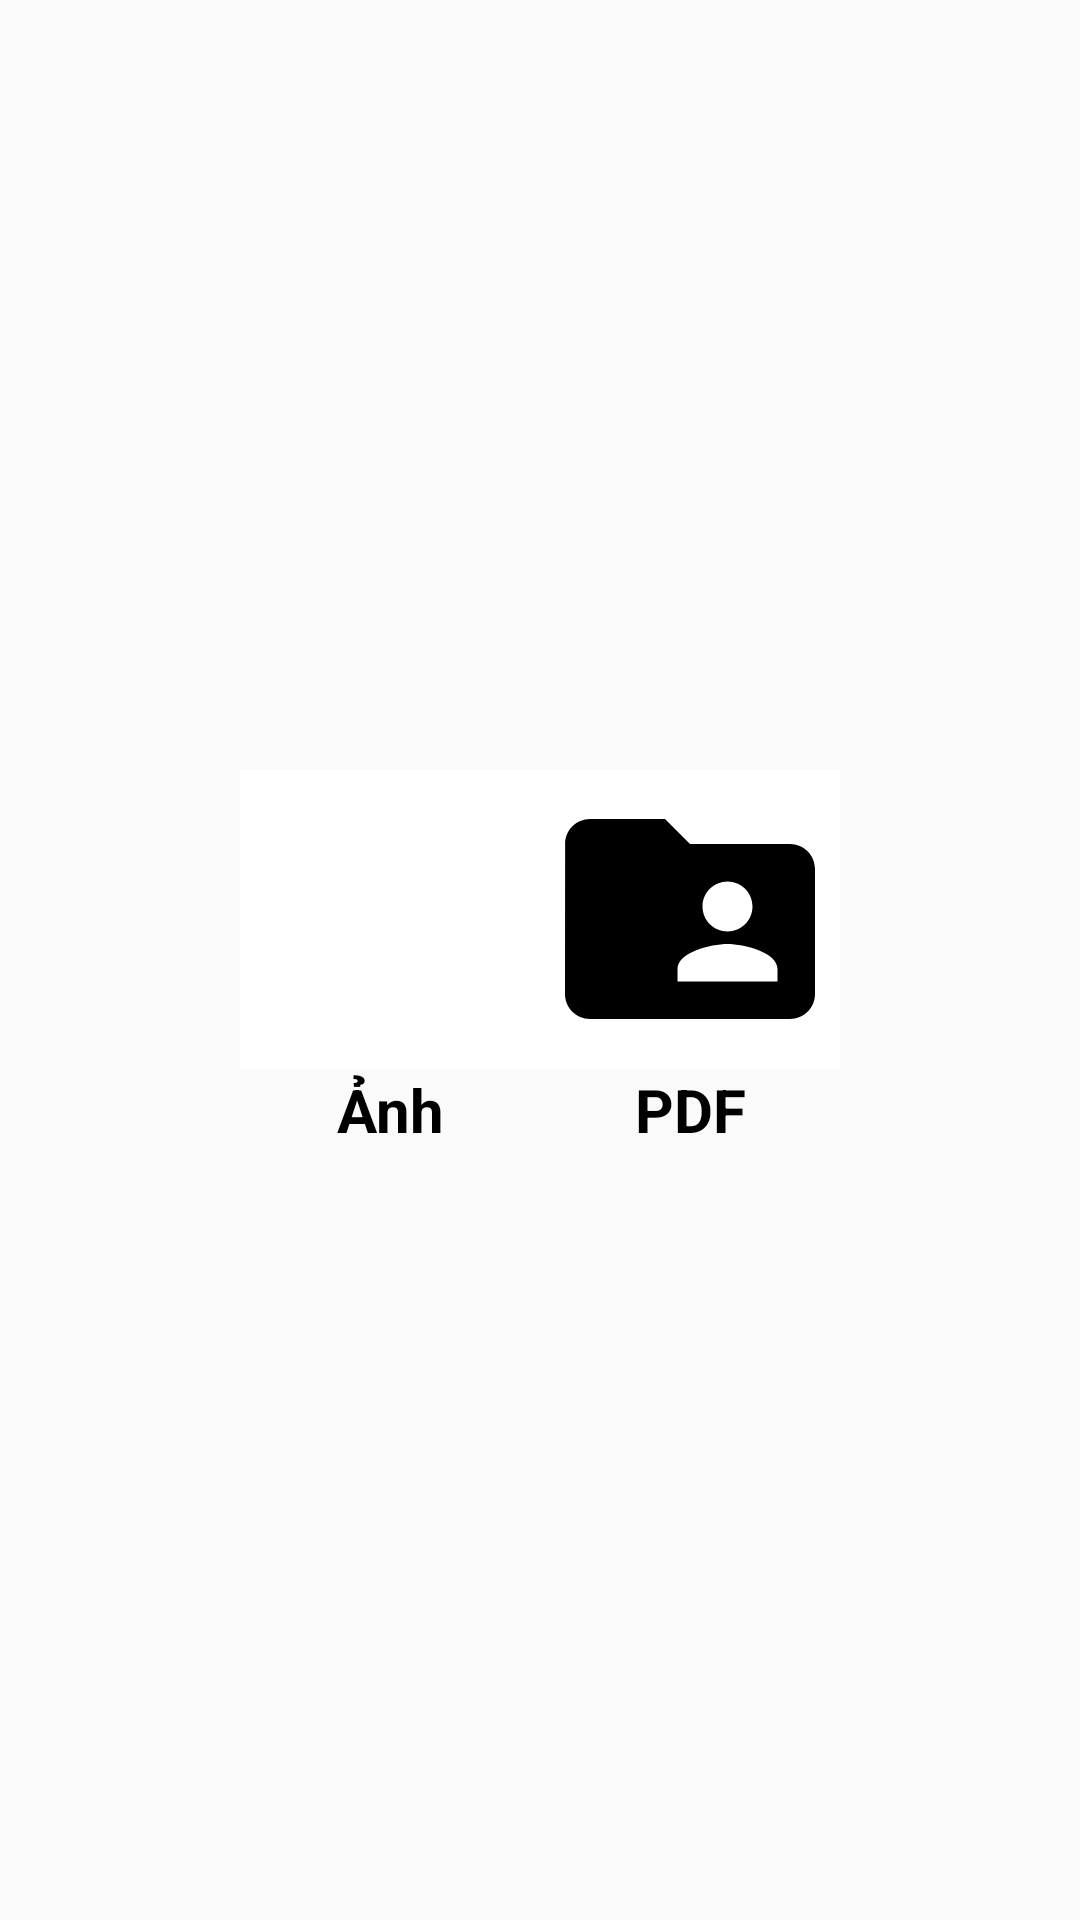

Locate icon controls on the screen. Image size 1080x1920, boxes as (x1, y1, x2, y2).
folder: (565, 819, 815, 1019)
